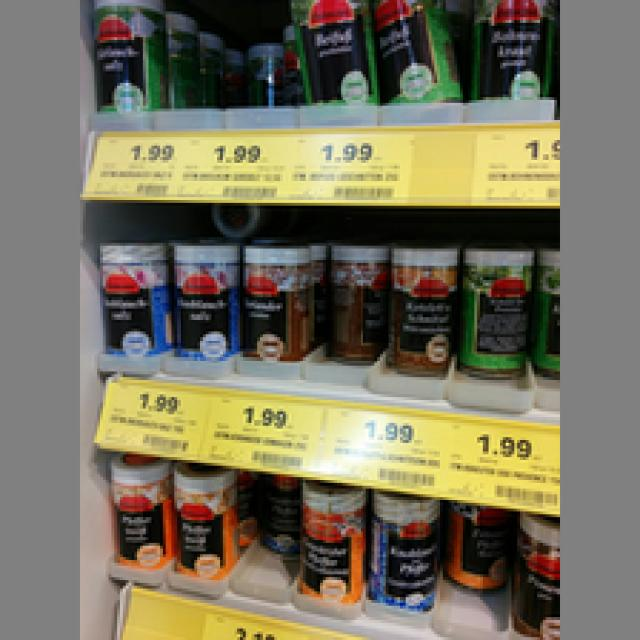groceries: (460, 243, 531, 374), (88, 237, 168, 352), (286, 0, 374, 100), (294, 483, 363, 608), (388, 246, 452, 374), (86, 0, 160, 109), (372, 492, 437, 608), (240, 246, 309, 354), (172, 460, 234, 577), (172, 243, 234, 357), (328, 243, 386, 357), (106, 451, 166, 560)
